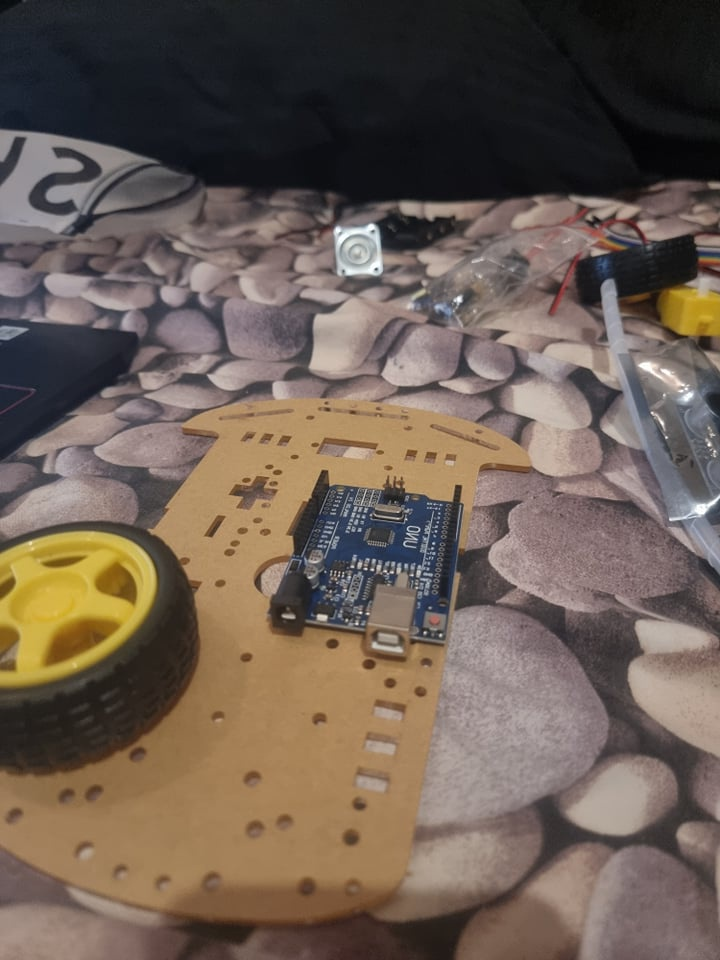BATTERY BOX: (376, 206, 457, 249)
UNO R3: (264, 467, 469, 663)
